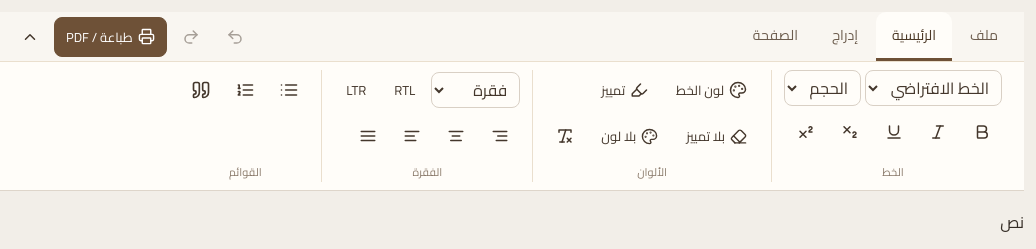
ribbon › offers Word import in the file tab
The width and height of the screenshot is (1036, 249).
Click the tab "ملف".
click(984, 36)  # box [954,12,1014,61]
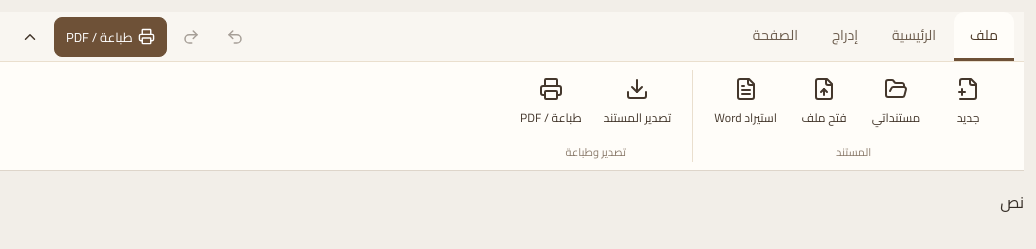
Expected: the element showing "جديد مستنداتي فتح ملف استيراد Word" is shown, [705,70,1002,136]
